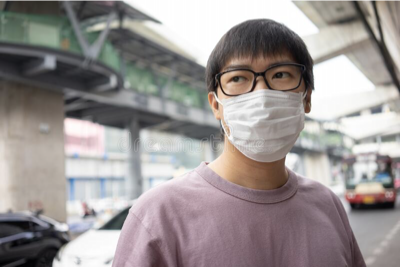with_mask: (218, 57, 307, 164)
